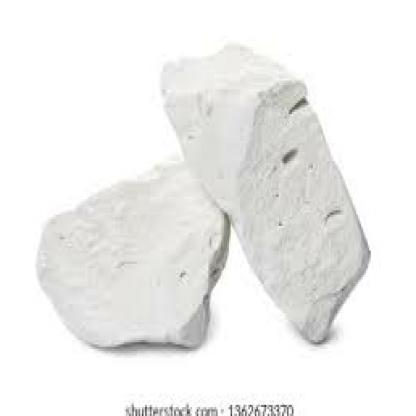Sedimentary_Chalk: (152, 40, 377, 342), (32, 157, 232, 351)
